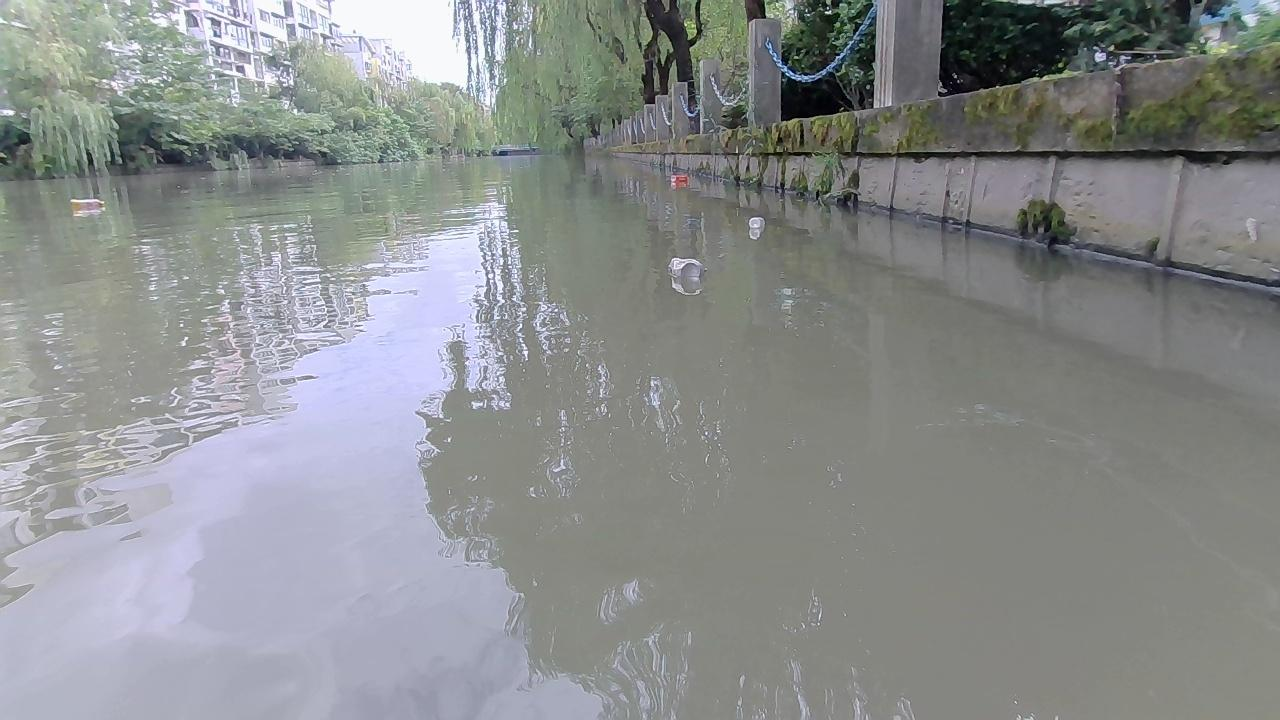bottle: (662, 256, 708, 286), (66, 197, 109, 215), (745, 212, 763, 233), (667, 172, 691, 187)
